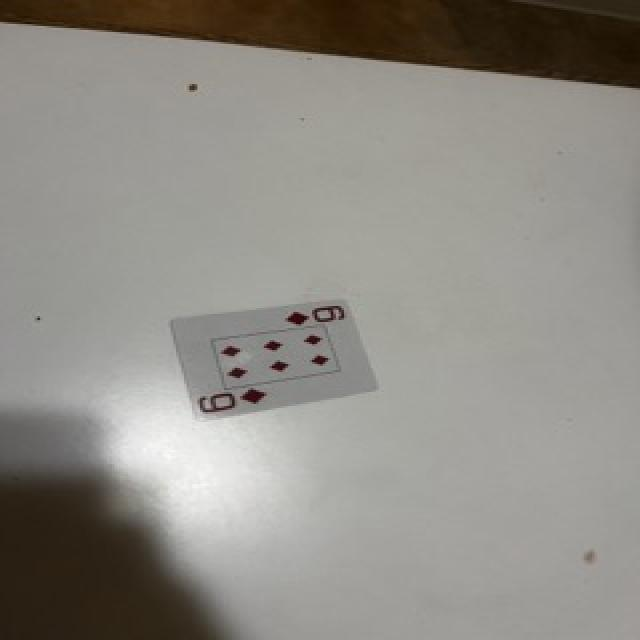6 of diamonds: (174, 300, 377, 419)
